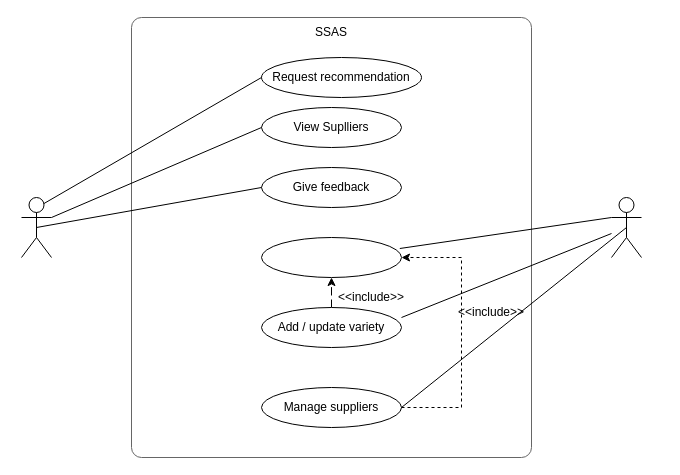
The diagram is 680 pixels wide and 475 high, and some of its shapes have lost their labels. The centre of each missing label's shape, as x and y in pixels:
Farmer: the point at 36,227
Login: the point at 331,257
Officer/Admin: the point at 626,227
